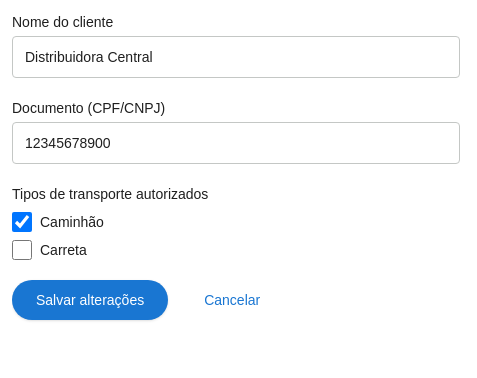
Test case: CustomerForm › edita um cliente existente, pré-preenchendo os dados atuais
Expected: the field labelled "Nome do cliente" holds "Distribuidora Central", [12,36,460,78]
Expected: the checkbox labelled "Caminhão" is checked, [12,212,32,232]
Click the checkbox labelled "Carreta" at coordinates (22, 250), box [12,240,32,260]
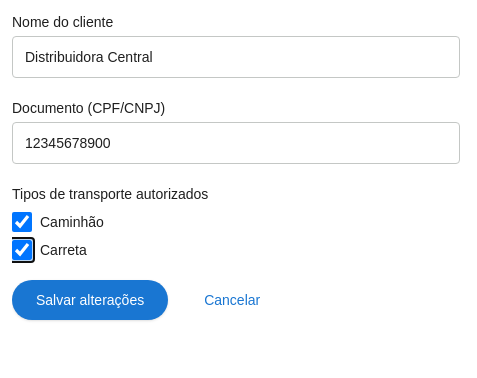
Click the button "Salvar alterações" at coordinates (90, 300), box [12,280,168,320]
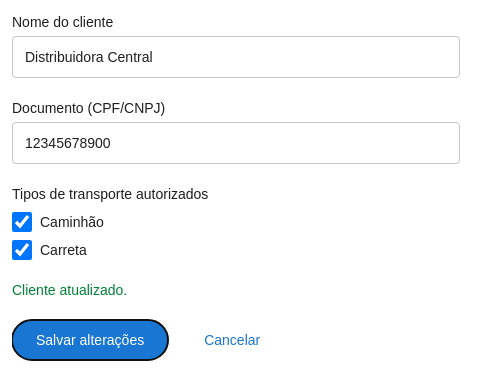
Expected: the text "Cliente atualizado." is shown, [12,282,127,298]
